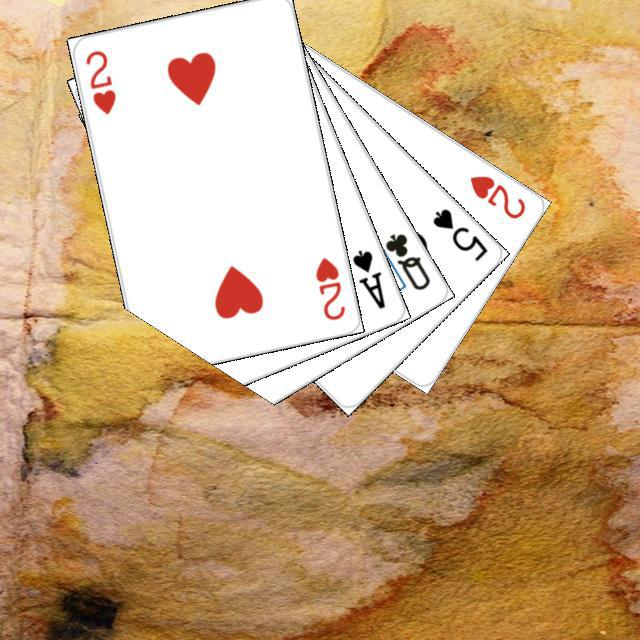2h: (465, 170, 528, 221), (80, 45, 118, 117), (310, 252, 347, 322)
5s: (428, 203, 490, 264)
As: (347, 245, 387, 311)
Qc: (369, 228, 432, 293)
